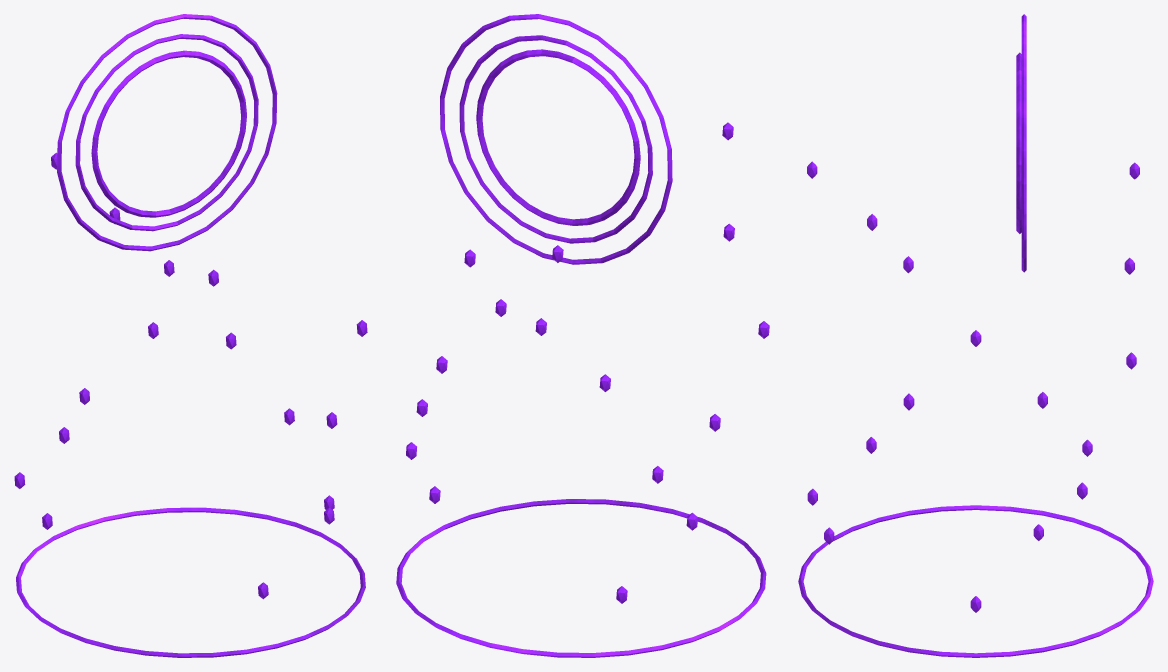
Rendered from aura-dark.glb.
3 views of the same model, side by side, from view 1: azimuth 30°, elevation 25°; view 2: azimuth 150°, elevation 25°; view 3: azimuth 270°, elevation 25° (orthographic). The views are drawn at different scales.
Parts seen in each view (by area): view 1: GroundRing, VoidOrbit.001, BackHalo, VoidOrbit; view 2: GroundRing, VoidOrbit.001, BackHalo, VoidOrbit; view 3: GroundRing, VoidOrbit.001, BackHalo.
Part boxes in pixels (x1,y1,x2,y2): GroundRing: (16,507,365,657); VoidOrbit.001: (57,14,277,251); BackHalo: (91,50,246,217); VoidOrbit: (75,34,258,231); GroundRing: (396,499,766,657); VoidOrbit.001: (440,14,672,264); BackHalo: (476,49,640,225); VoidOrbit: (459,35,652,243); GroundRing: (798,505,1153,657); VoidOrbit.001: (1021,14,1026,272); BackHalo: (1016,52,1021,233).
Bounding box in the file's own units: 0.812 × 1.41 × 0.812.
1 material, 1 textured.
